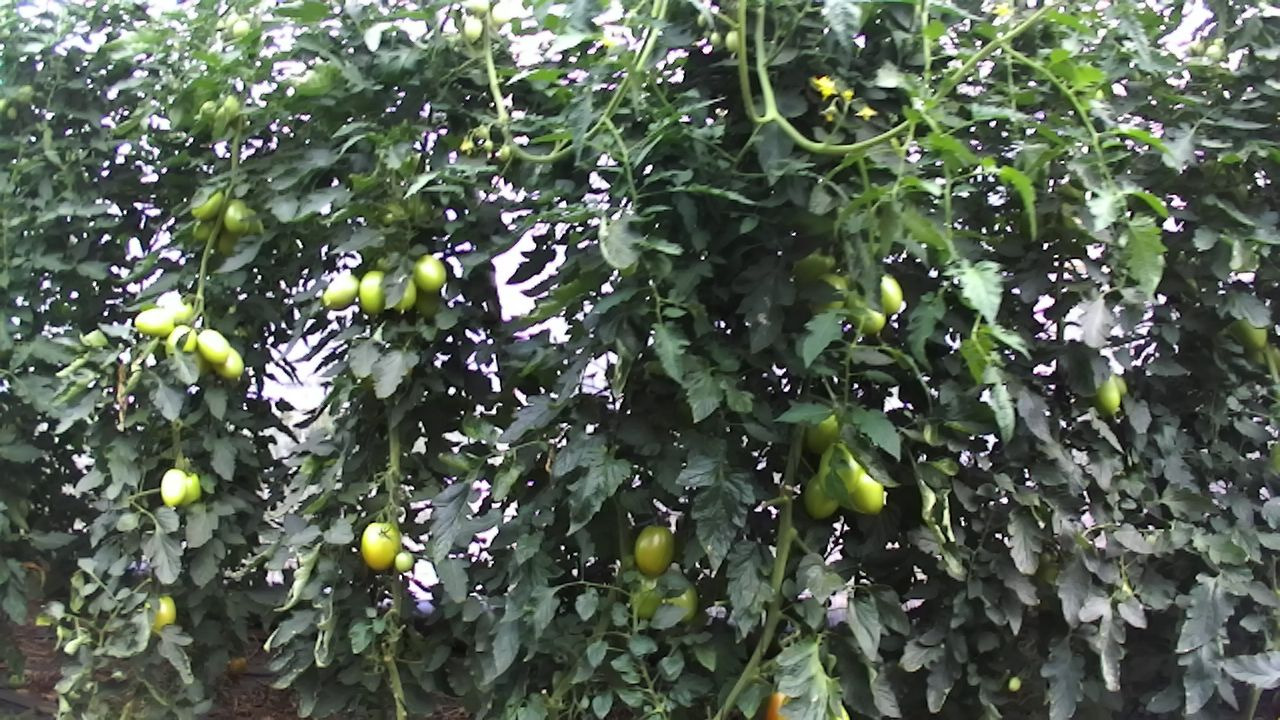tomato: (631, 518, 679, 580), (800, 469, 843, 524), (359, 519, 400, 574), (1088, 368, 1128, 418), (320, 271, 362, 311), (194, 325, 233, 368), (356, 268, 388, 317), (207, 342, 247, 380), (133, 304, 178, 337), (412, 253, 447, 294), (158, 466, 187, 509), (223, 197, 251, 236), (393, 549, 416, 576)
